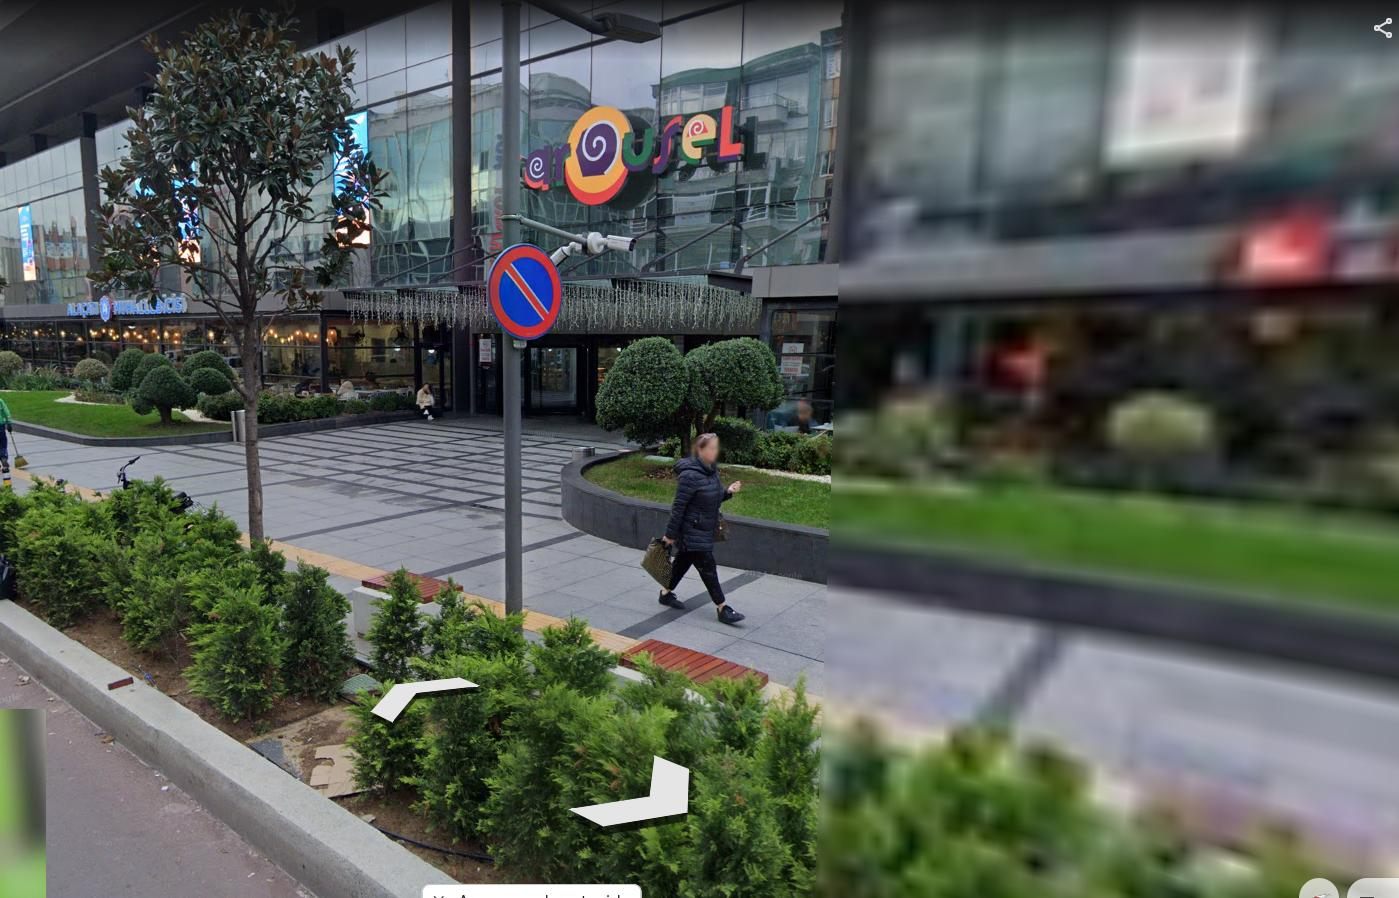nopark: (488, 245, 559, 341)
